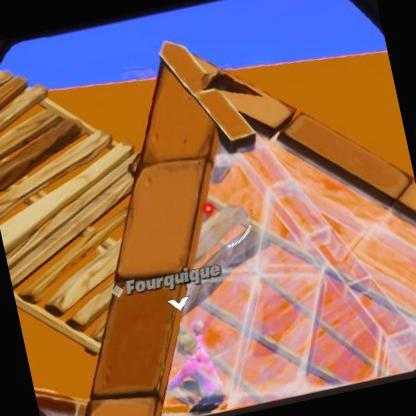person: (169, 321, 226, 416)
